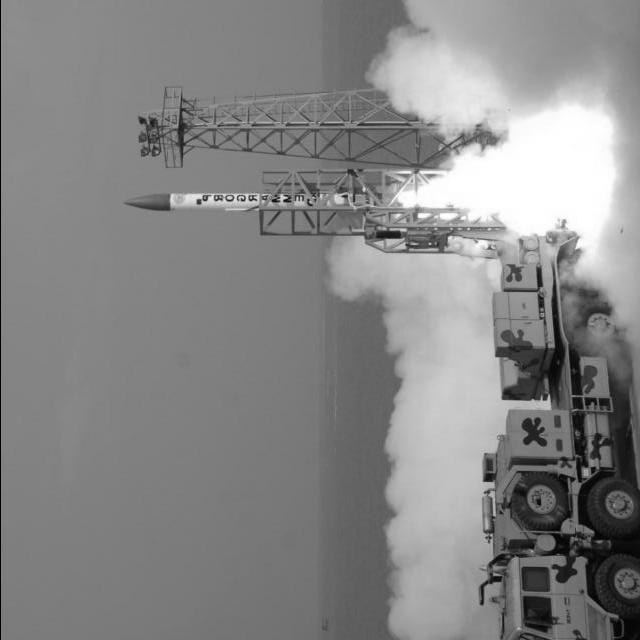missile: (115, 188, 312, 215)
